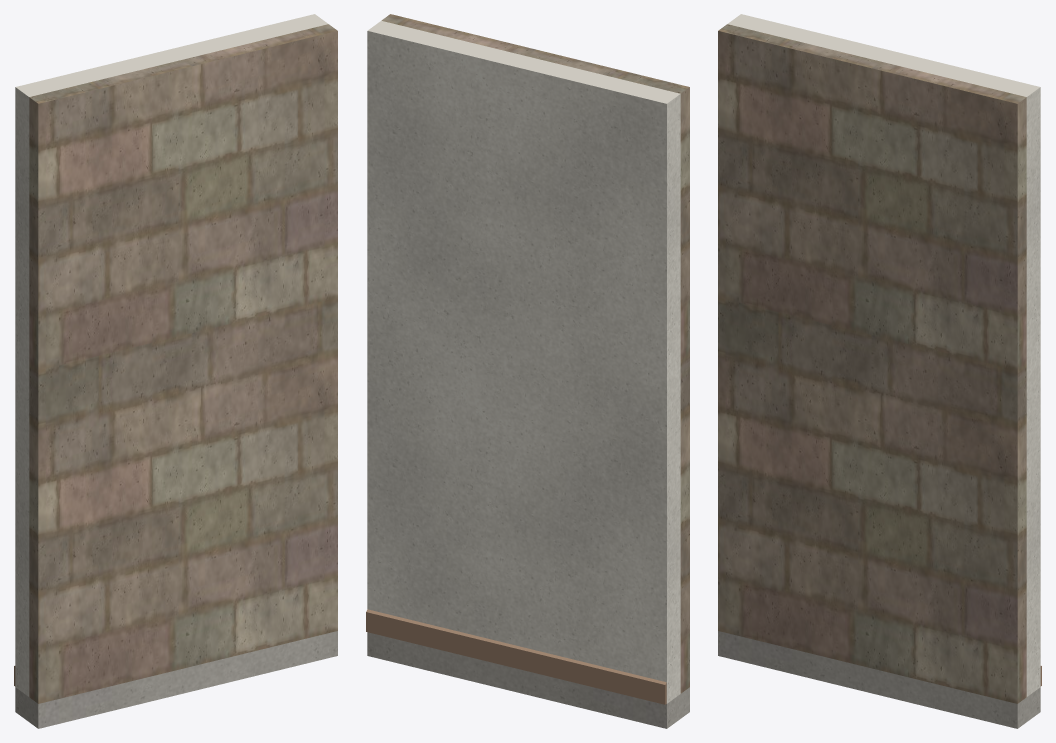
File: s_plain_fb.glb
The picture shows the model from 3 angles, left to right: view 1: azimuth 30°, elevation 25°; view 2: azimuth 150°, elevation 25°; view 3: azimuth 330°, elevation 25°; orthographic projection.
Parts seen in each view (by area): view 1: s_plain_fb_fstone, s_plain_fb_plaster, s_plain_fb_concrete; view 2: s_plain_fb_plaster, s_plain_fb_fstone, s_plain_fb_concrete, s_plain_fb_trim; view 3: s_plain_fb_fstone, s_plain_fb_plaster, s_plain_fb_concrete.
Part boxes in pixels (left/top/right/bottom): s_plain_fb_fstone: left=29, top=24, right=337, bottom=703; s_plain_fb_plaster: left=15, top=14, right=327, bottom=696; s_plain_fb_concrete: left=15, top=631, right=337, bottom=728; s_plain_fb_plaster: left=367, top=20, right=680, bottom=703; s_plain_fb_fstone: left=381, top=14, right=689, bottom=693; s_plain_fb_concrete: left=367, top=632, right=689, bottom=728; s_plain_fb_trim: left=366, top=609, right=666, bottom=704; s_plain_fb_fstone: left=718, top=24, right=1026, bottom=703; s_plain_fb_plaster: left=728, top=14, right=1040, bottom=696; s_plain_fb_concrete: left=718, top=631, right=1040, bottom=728.
Bounding box in the file's own units: 1.88 × 3.75 × 0.266.
4 materials, 3 textured.
